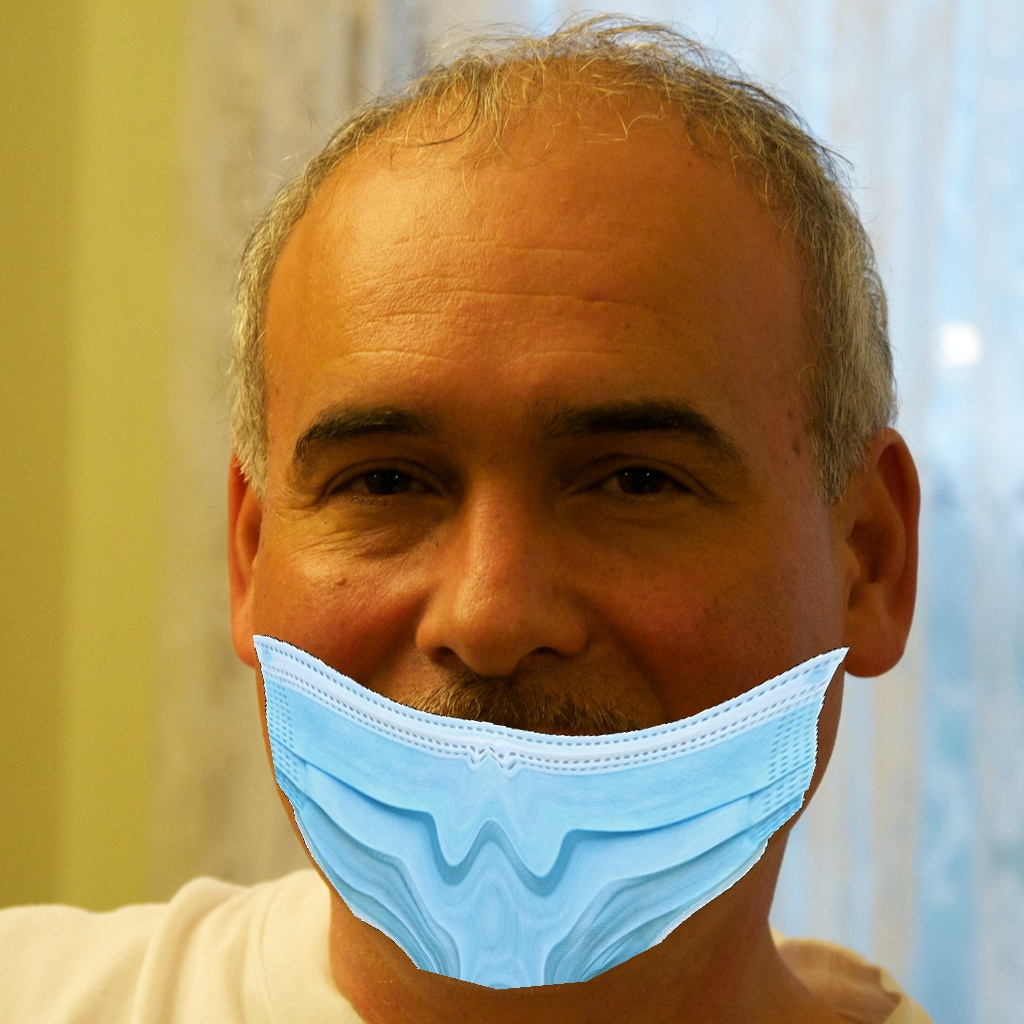mascarilla_mal_puesta: (199, 353, 929, 1003)
